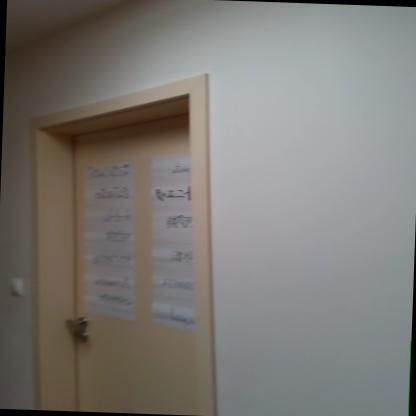closed: (0, 61, 234, 412)
